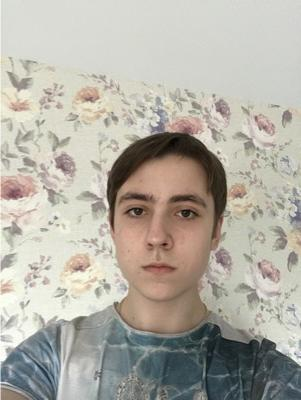without_mask: (113, 189, 215, 304)
